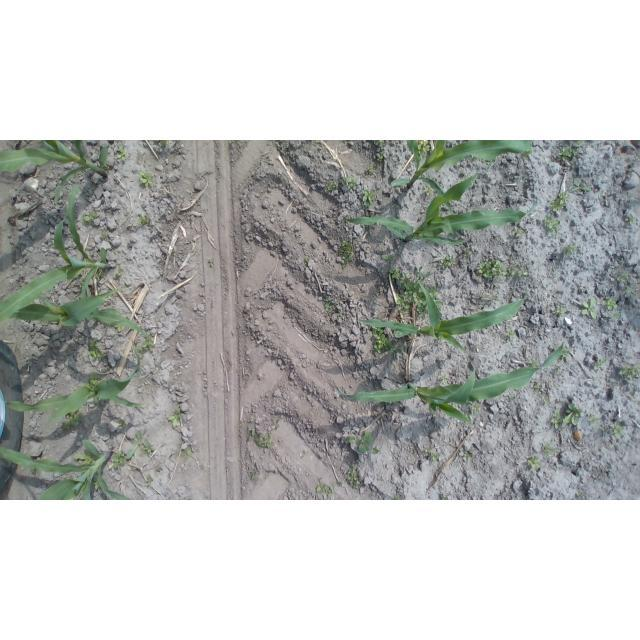Maize: (333, 334, 567, 428), (0, 183, 112, 325), (343, 170, 539, 247), (1, 337, 144, 430), (357, 277, 527, 353), (391, 140, 534, 212), (1, 440, 132, 500), (11, 295, 156, 346), (1, 140, 109, 206)
Weeds: (397, 268, 444, 317), (372, 328, 403, 357), (125, 431, 151, 462), (348, 432, 380, 456), (247, 424, 274, 449), (476, 259, 508, 280), (337, 236, 355, 270), (314, 477, 335, 500), (550, 191, 571, 213), (563, 402, 582, 426), (543, 437, 562, 459), (60, 414, 84, 431), (347, 463, 362, 489), (86, 338, 104, 359), (618, 364, 640, 381), (543, 216, 561, 236), (559, 145, 580, 162), (582, 297, 598, 319), (569, 179, 591, 194), (322, 293, 338, 311), (169, 406, 182, 428), (81, 211, 100, 226), (139, 169, 154, 187), (609, 421, 623, 440), (74, 452, 96, 464), (550, 410, 563, 430), (361, 189, 376, 206), (140, 336, 155, 352), (113, 451, 126, 469), (602, 296, 618, 310), (557, 322, 573, 336), (553, 304, 567, 319), (440, 255, 456, 268), (342, 174, 356, 188), (527, 455, 541, 469), (419, 141, 429, 160), (137, 213, 151, 226), (592, 358, 606, 371), (564, 243, 576, 257), (117, 146, 127, 162), (389, 265, 400, 279), (532, 382, 542, 397), (507, 261, 517, 276), (624, 282, 636, 294), (615, 273, 629, 283), (181, 447, 191, 461), (589, 411, 598, 426), (513, 227, 525, 238), (624, 215, 636, 226), (468, 403, 480, 414), (561, 346, 572, 358), (505, 329, 516, 340), (326, 181, 336, 193), (529, 357, 541, 367), (248, 468, 257, 481), (440, 373, 450, 384), (155, 140, 173, 146), (90, 372, 99, 384), (430, 453, 440, 463), (463, 452, 474, 461), (518, 269, 529, 278), (611, 312, 620, 323), (113, 266, 122, 277), (382, 254, 395, 261), (393, 493, 406, 500), (463, 248, 474, 256), (272, 419, 280, 430), (368, 163, 375, 175), (145, 445, 154, 454), (424, 185, 432, 195), (118, 418, 126, 428), (555, 365, 562, 376), (147, 476, 154, 487), (492, 293, 499, 303), (542, 396, 550, 404), (373, 381, 381, 389), (377, 154, 384, 163), (156, 364, 163, 373), (424, 447, 433, 454), (209, 259, 216, 268), (93, 482, 99, 492), (440, 494, 449, 500), (466, 413, 475, 419), (374, 140, 384, 145), (100, 233, 107, 240), (101, 272, 108, 279), (304, 257, 311, 264), (578, 491, 585, 498), (115, 325, 122, 332), (487, 160, 494, 166), (480, 295, 486, 302), (337, 481, 344, 487), (336, 312, 344, 317), (577, 140, 583, 146), (509, 394, 516, 399), (31, 470, 37, 475), (105, 164, 110, 169), (631, 397, 636, 402), (438, 340, 443, 345), (82, 274, 86, 279), (229, 140, 235, 142)
